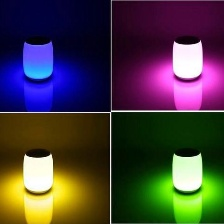light_bulb: (168, 144, 206, 198), (169, 32, 205, 84), (18, 34, 55, 82), (22, 145, 56, 194)
